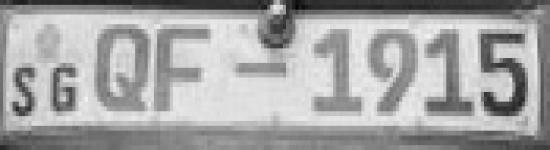-: (232, 52, 290, 85)
1: (419, 20, 476, 126), (307, 19, 366, 119)
5: (477, 21, 536, 124)
9: (364, 20, 418, 120)
F: (151, 18, 215, 120)
G: (45, 59, 85, 123)
Q: (91, 17, 150, 121)
S: (9, 59, 42, 127)
